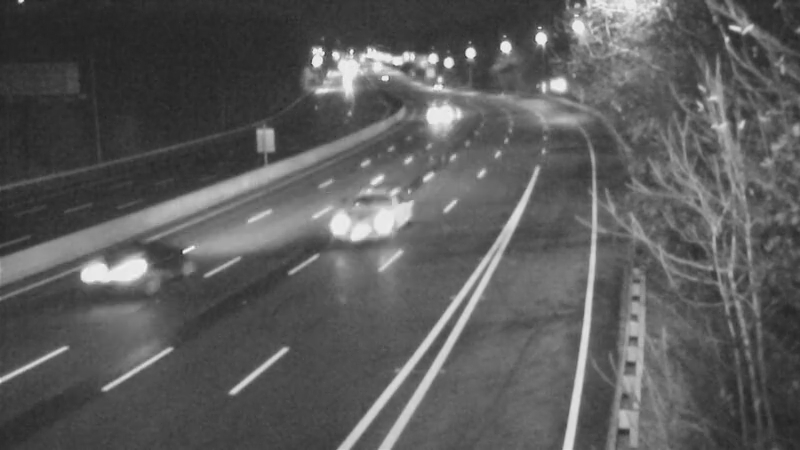vehicle: (329, 178, 409, 258), (89, 232, 169, 312), (409, 63, 459, 113), (413, 86, 463, 136)
